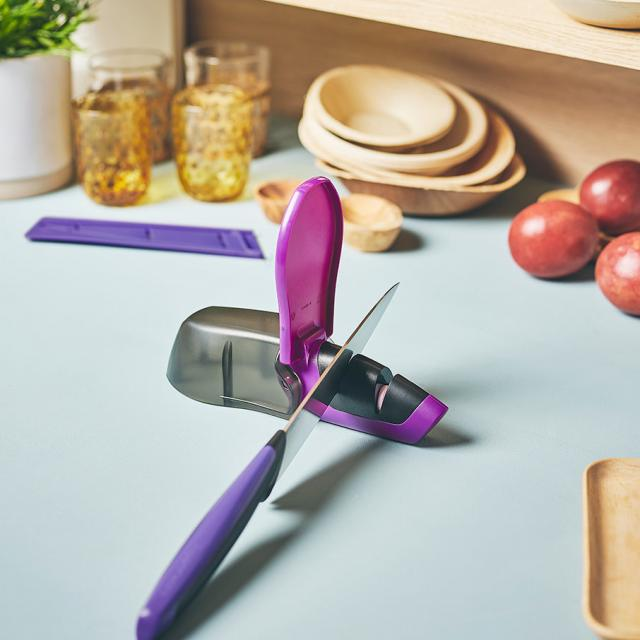knife: (132, 277, 404, 636)
